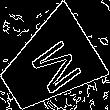M_SW: (18, 32, 80, 98)
